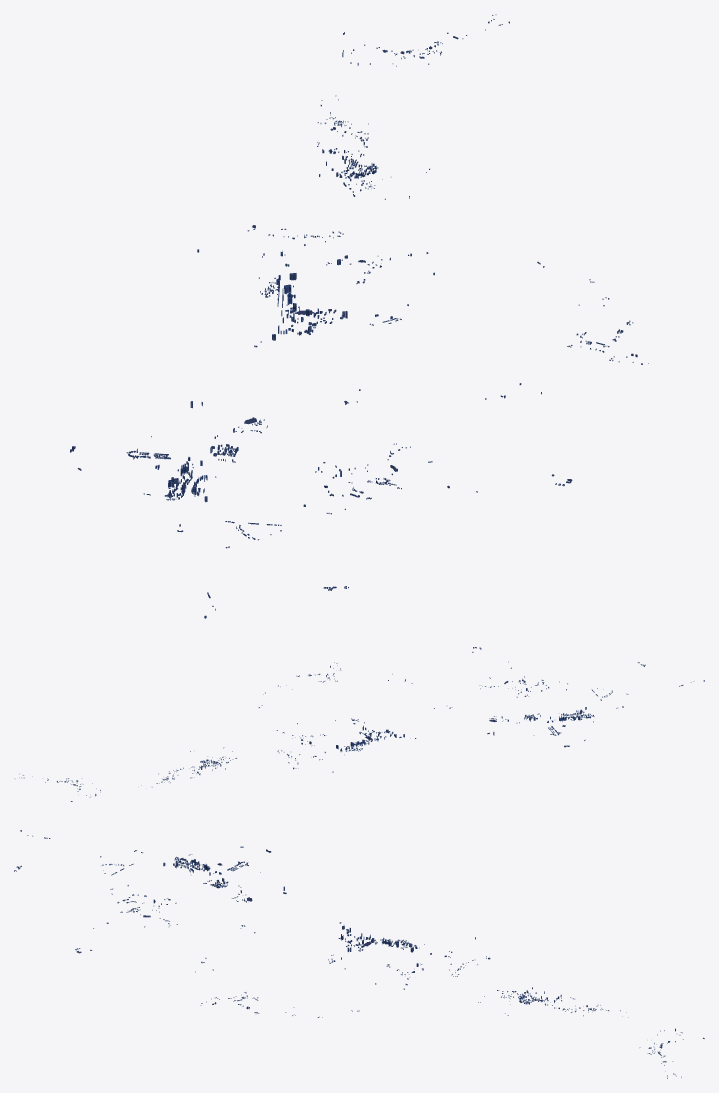
The model's file is NoLod_0.glb.
The picture shows the model from 3 angles, top to bottom: view 1: azimuth 30°, elevation 25°; view 2: azimuth 150°, elevation 25°; view 3: azimuth 270°, elevation 25°; orthographic projection. The views are drawn at different scales.
Parts seen in each view (by area): view 1: rtc; view 2: rtc; view 3: rtc.
Part boxes in pixels (box(x1,y1,x2,y2)): rtc: box(70, 14, 648, 618); rtc: box(14, 647, 704, 801); rtc: box(14, 830, 704, 1078).
Size of the model in its own units: 43595 by 492 by 51351.
Materials: 1 (1 with a texture image).
